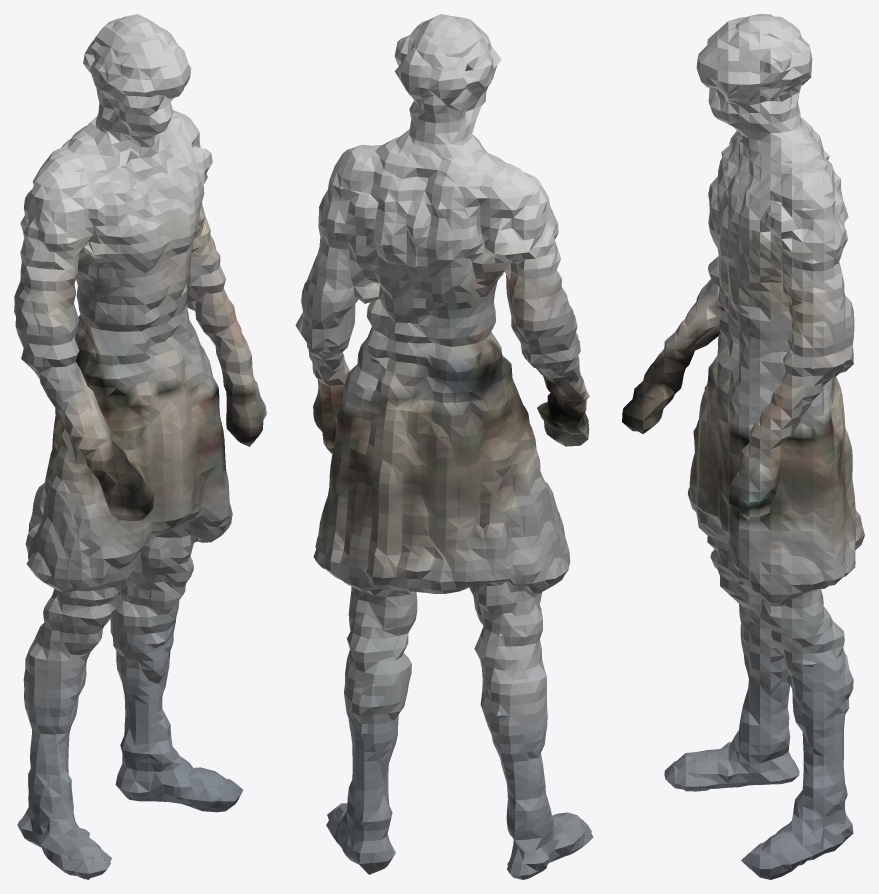
Rendered from leo-triposr-v1.glb.
3 renders of one model, left to right at view 1: azimuth 30°, elevation 25°; view 2: azimuth 150°, elevation 25°; view 3: azimuth 270°, elevation 25°, orthographic. The views are drawn at different scales.
Parts seen in each view (by area): view 1: world; view 2: world; view 3: world.
Boxes of the visible parts, x1,y1,x2,y2 form: world: (14, 14, 266, 879); world: (295, 14, 593, 879); world: (622, 14, 864, 879).
Size of the model in its own units: 0.563 by 1.78 by 0.4793.
